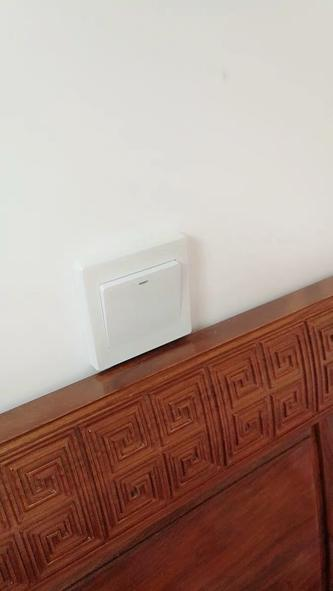switch: (90, 274, 189, 338)
